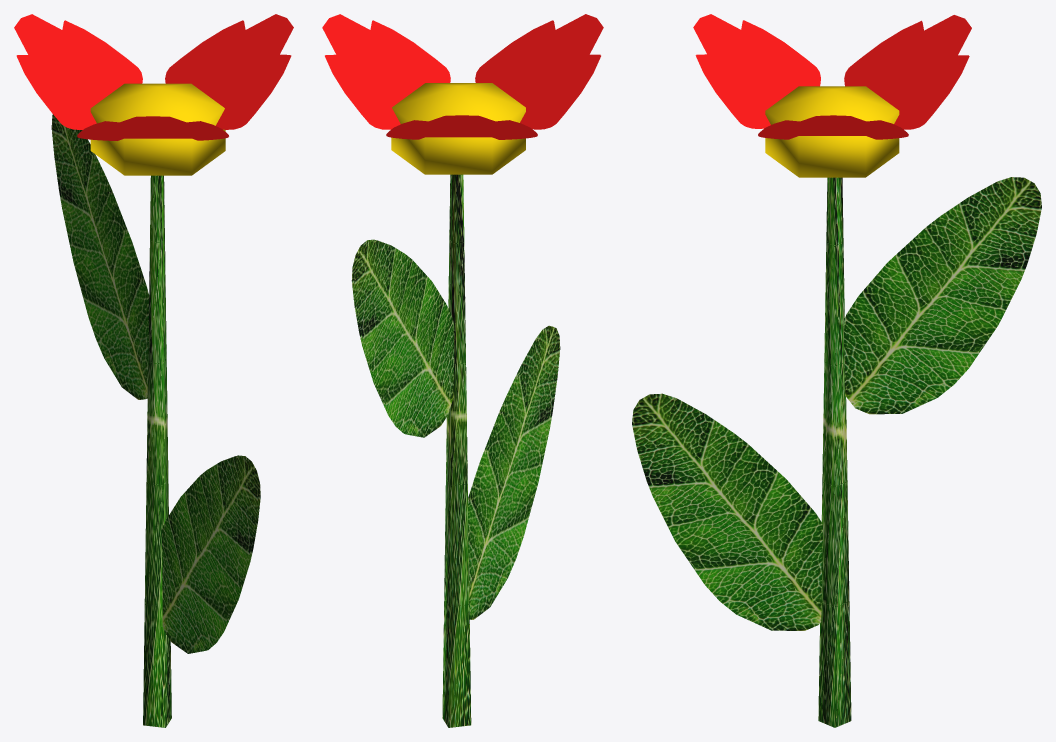
The model's file is RedFLower.FBX.
3 renders of one model, left to right at view 1: azimuth 30°, elevation 25°; view 2: azimuth 150°, elevation 25°; view 3: azimuth 270°, elevation 25°, orthographic.
Parts seen in each view (by area): view 1: Leaf, Leaf001, Cone001, RedFlowLeaf002, Sphere001, RedFlowLeaf, RedFlowLeaf001; view 2: Leaf001, Leaf, Cone001, RedFlowLeaf001, Sphere001, RedFlowLeaf, RedFlowLeaf002; view 3: Leaf001, Leaf, Cone001, Sphere001, RedFlowLeaf001, RedFlowLeaf002, RedFlowLeaf.
Part boxes in pixels (x1=…): Leaf: x1=162, y1=455, x2=260, y2=653; Leaf001: x1=51, y1=114, x2=148, y2=399; Cone001: x1=143, y1=175, x2=171, y2=727; RedFlowLeaf002: x1=14, y1=14, x2=142, y2=129; Sphere001: x1=90, y1=83, x2=225, y2=175; RedFlowLeaf: x1=165, y1=14, x2=293, y2=129; RedFlowLeaf001: x1=77, y1=116, x2=228, y2=140; Leaf001: x1=351, y1=239, x2=454, y2=437; Leaf: x1=468, y1=325, x2=560, y2=619; Cone001: x1=442, y1=174, x2=471, y2=727; RedFlowLeaf001: x1=475, y1=14, x2=603, y2=129; Sphere001: x1=391, y1=83, x2=525, y2=174; RedFlowLeaf: x1=322, y1=14, x2=450, y2=129; RedFlowLeaf002: x1=386, y1=115, x2=537, y2=139; Leaf001: x1=843, y1=177, x2=1041, y2=414; Leaf: x1=632, y1=393, x2=822, y2=630; Cone001: x1=818, y1=177, x2=851, y2=727; Sphere001: x1=765, y1=86, x2=899, y2=177; RedFlowLeaf001: x1=693, y1=14, x2=820, y2=128; RedFlowLeaf002: x1=844, y1=15, x2=971, y2=129; RedFlowLeaf: x1=758, y1=115, x2=908, y2=139.
Size of the model in its own units: 8.55 by 23.94 by 13.32.
